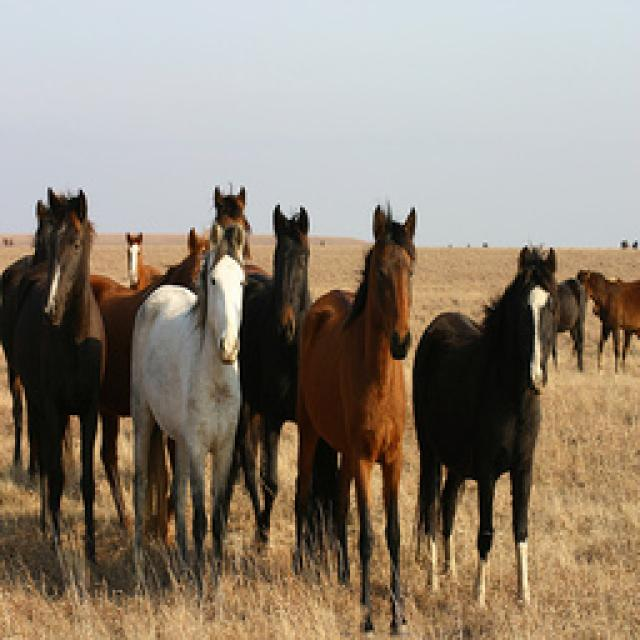not_pig: (410, 242, 560, 610), (292, 203, 418, 635), (125, 221, 250, 590), (2, 185, 108, 567), (232, 202, 310, 552), (210, 182, 278, 542), (0, 198, 58, 482), (485, 275, 585, 370), (575, 268, 637, 372), (553, 275, 585, 370), (212, 182, 250, 258), (165, 225, 210, 287), (125, 230, 163, 290), (125, 230, 143, 288)
